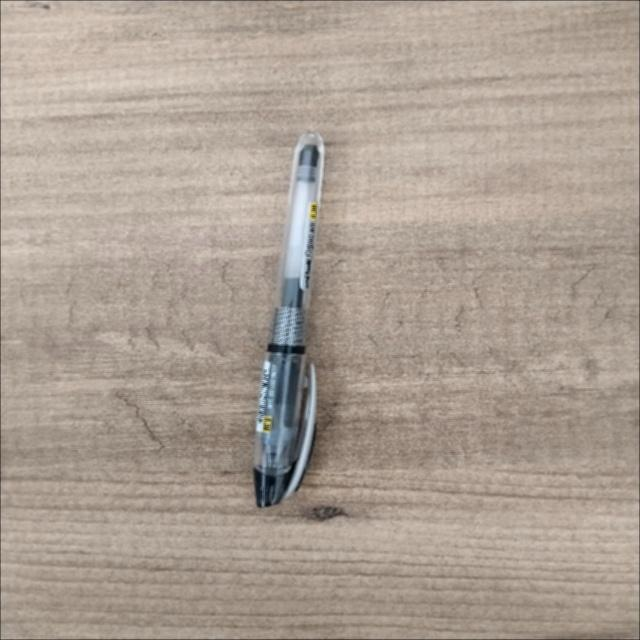pen: (254, 132, 323, 506)
